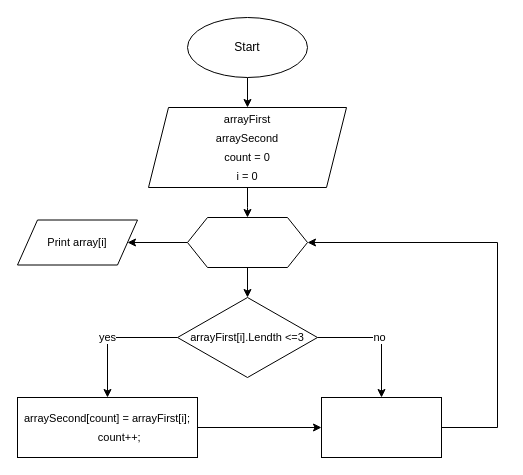
This 523x475 diagram has some shape labels left out. The shapes that lost their labels are listed below. From the top down, each one's box as (x1, y1, x2, y2) in pixels, then its label:
(186, 216, 308, 268): i < arrayFirst.Lendth
(320, 396, 442, 458): i++
